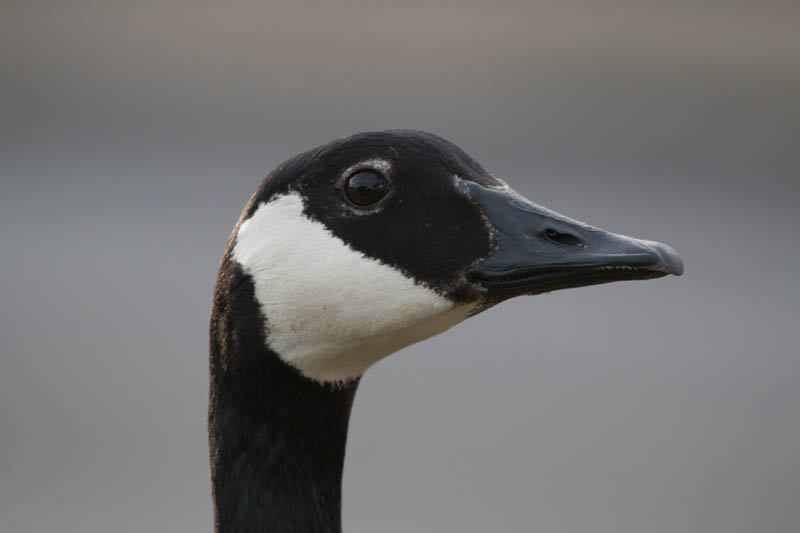goose-head: (207, 128, 685, 387)
